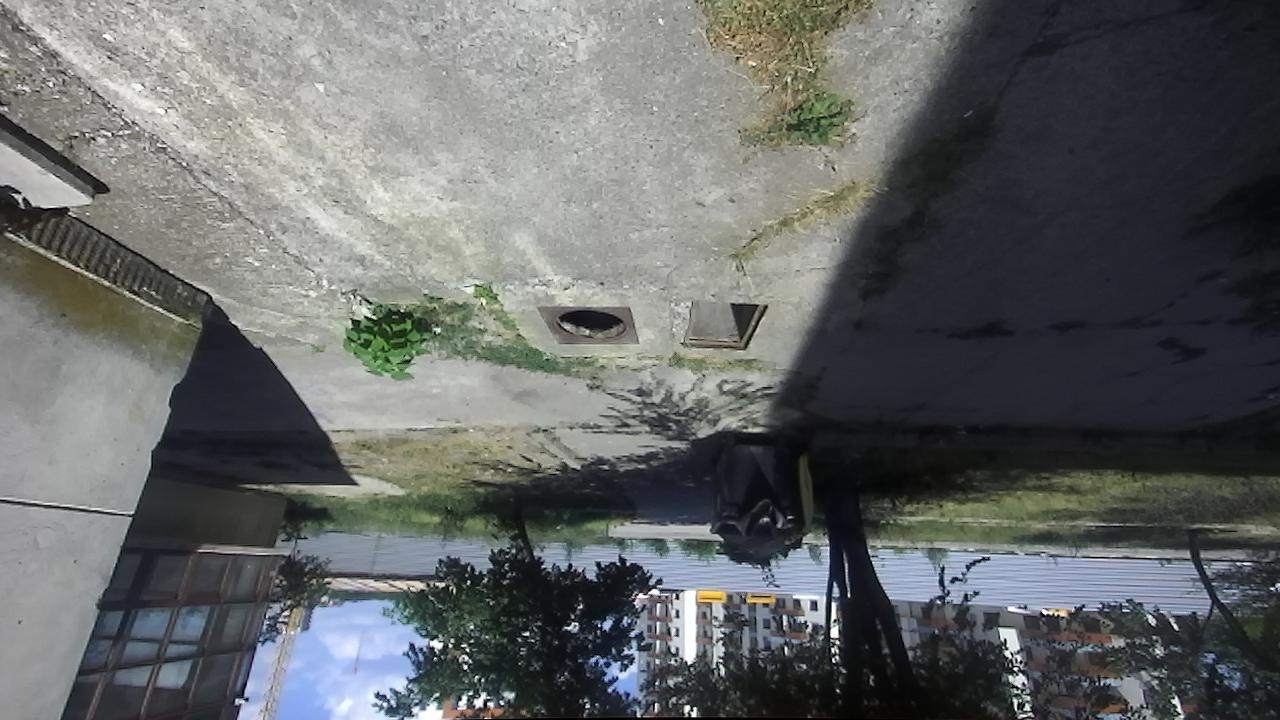drain: (675, 301, 772, 351), (552, 304, 633, 345)
